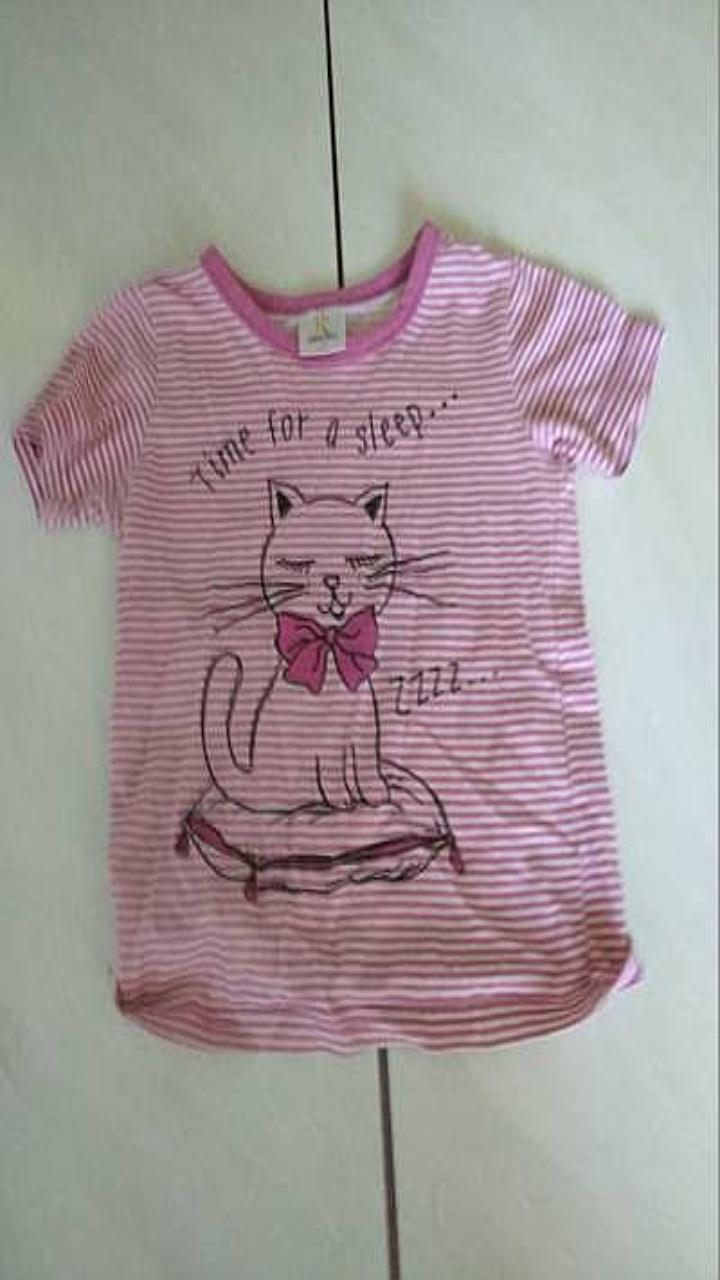T-Shirt: (12, 221, 664, 1051)
